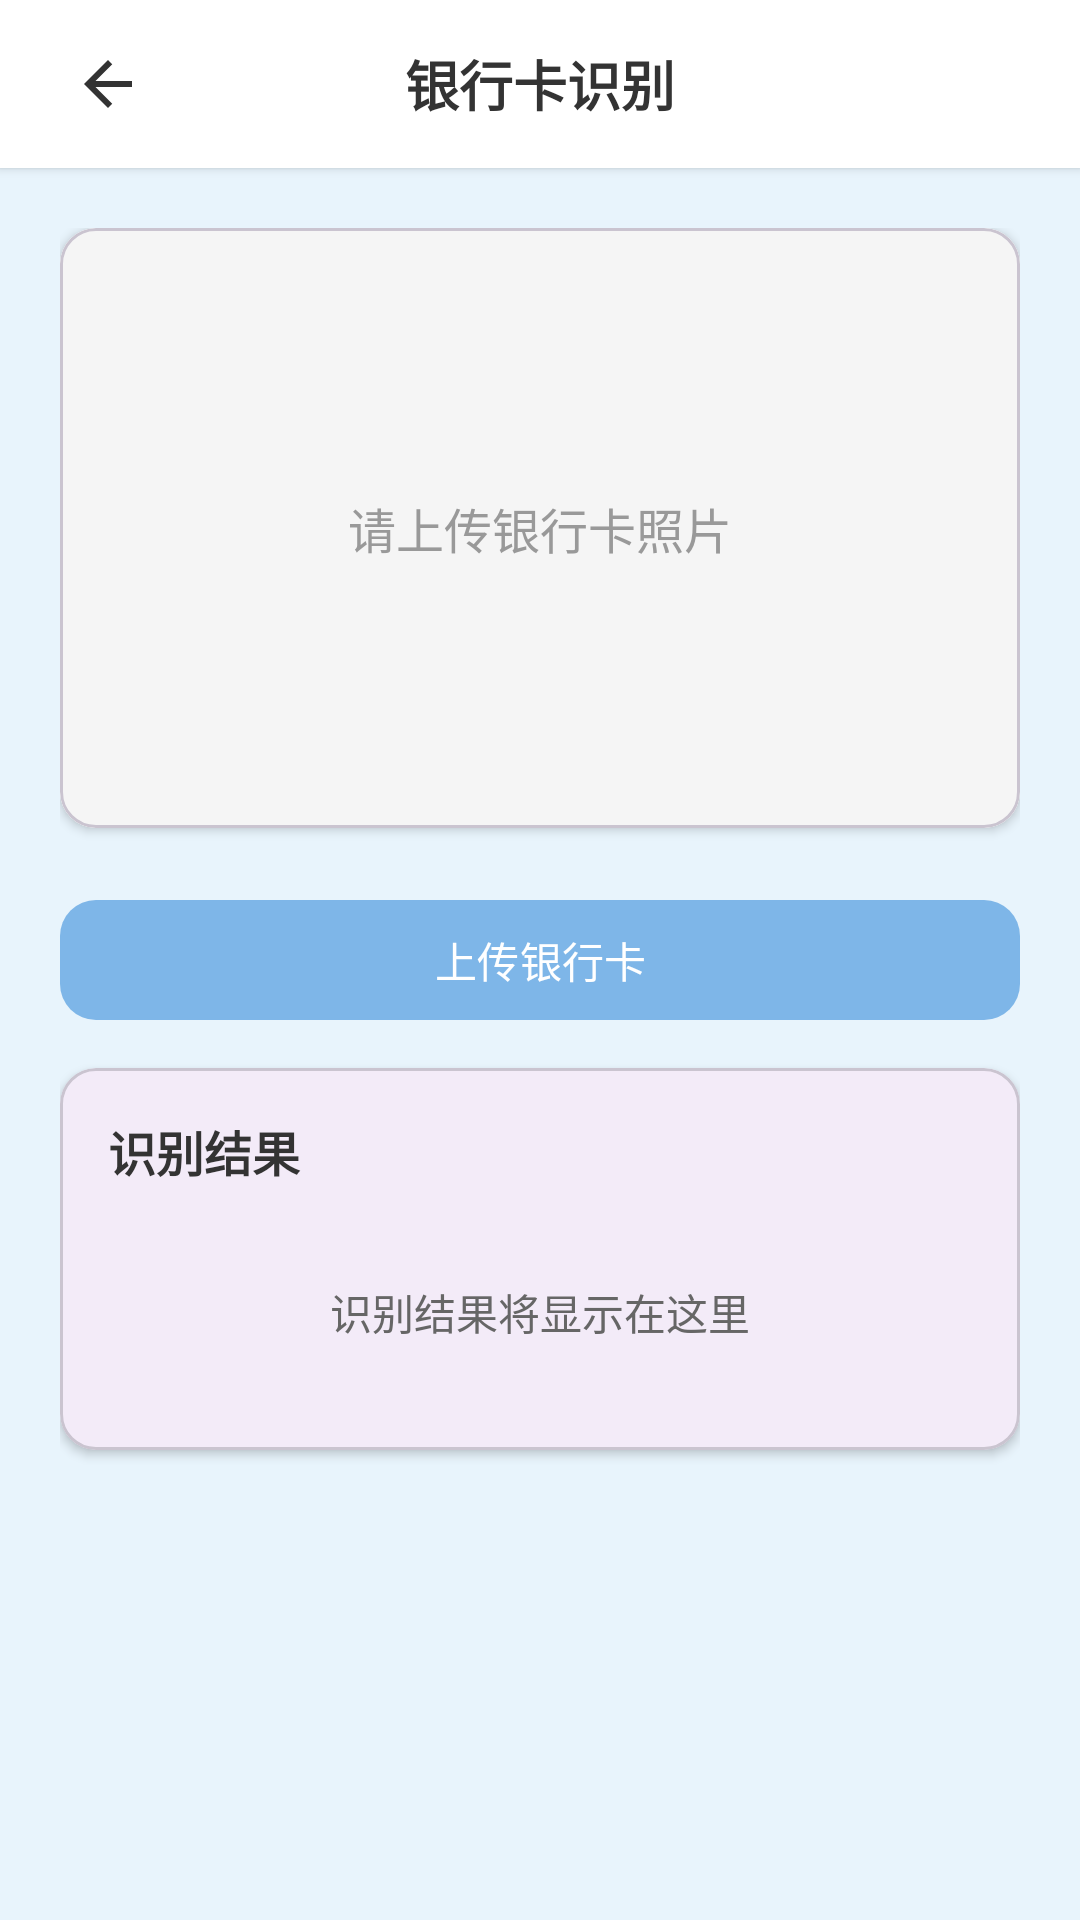

Screen size 1080 x 1920. Icon name, then its box in pixels as (x1, y1, x2, y2):
返回: (84, 60, 132, 108)
